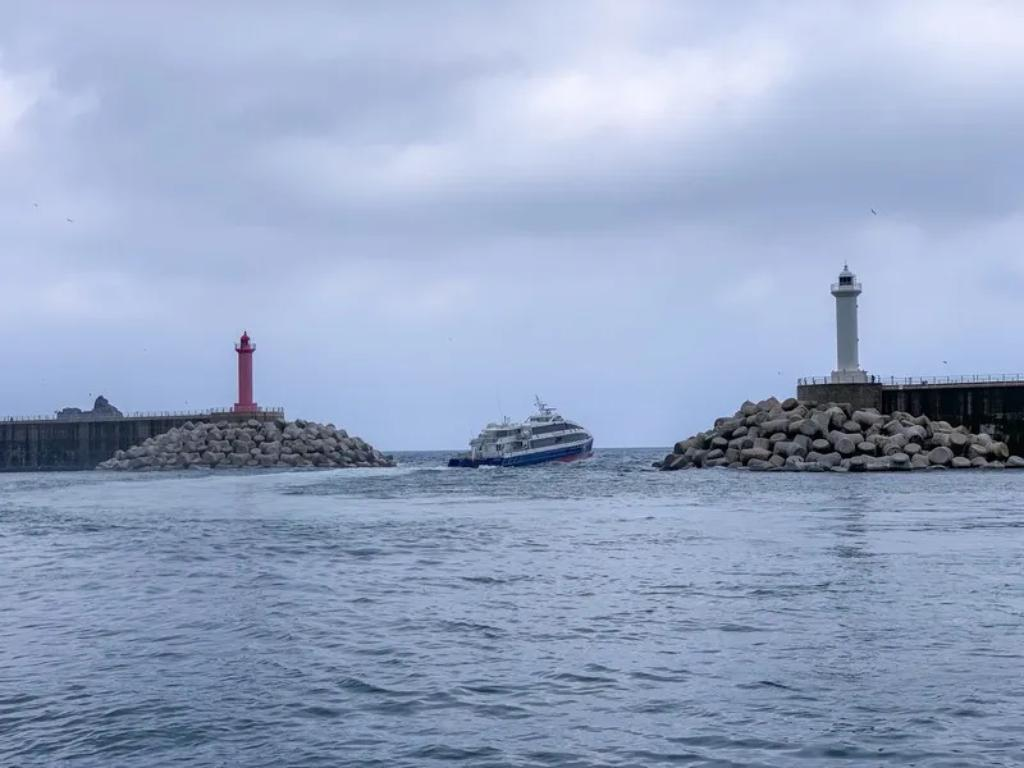PassengerShip: (438, 391, 600, 476)
